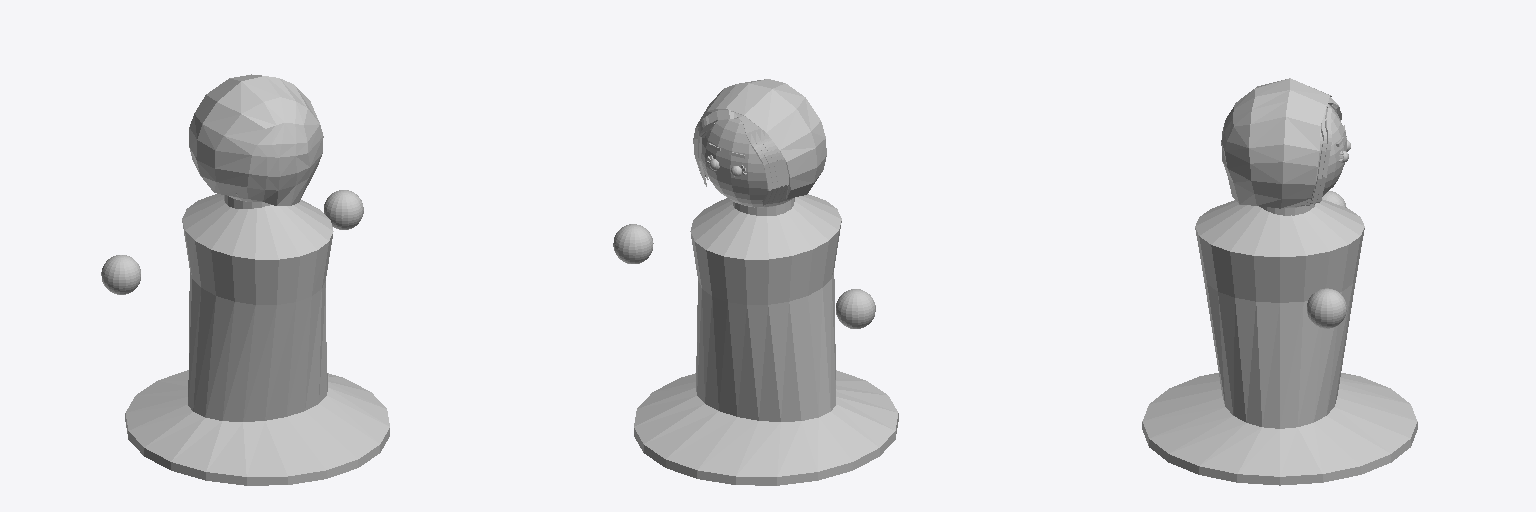
Rendered from FlorenceUVUSETHISONE!.obj.
The picture shows the model from 3 angles: view 1: azimuth 30°, elevation 25°; view 2: azimuth 150°, elevation 25°; view 3: azimuth 270°, elevation 25°; orthographic projection.
Parts seen in each view (by area): view 1: Florence_Mesh Florence_Nightingale, Florence_Nightingale Left_Hand, Florence_Nightingale Right_hand; view 2: Florence_Mesh Florence_Nightingale, Florence_Nightingale Right_hand, Florence_Nightingale Left_Hand; view 3: Florence_Mesh Florence_Nightingale, Florence_Nightingale Right_hand.
Boxes of the visible parts, x1,y1,x2,y2 form: Florence_Mesh Florence_Nightingale: [125, 74, 389, 485]; Florence_Nightingale Left_Hand: [101, 255, 140, 294]; Florence_Nightingale Right_hand: [324, 190, 363, 229]; Florence_Mesh Florence_Nightingale: [634, 79, 898, 485]; Florence_Nightingale Right_hand: [613, 224, 653, 263]; Florence_Nightingale Left_Hand: [836, 289, 875, 328]; Florence_Mesh Florence_Nightingale: [1142, 78, 1417, 485]; Florence_Nightingale Right_hand: [1307, 288, 1346, 328].
Bounding box in the file's own units: 4.35 × 5.59 × 4.03.